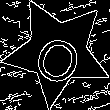O_NE: (27, 20, 88, 84)
